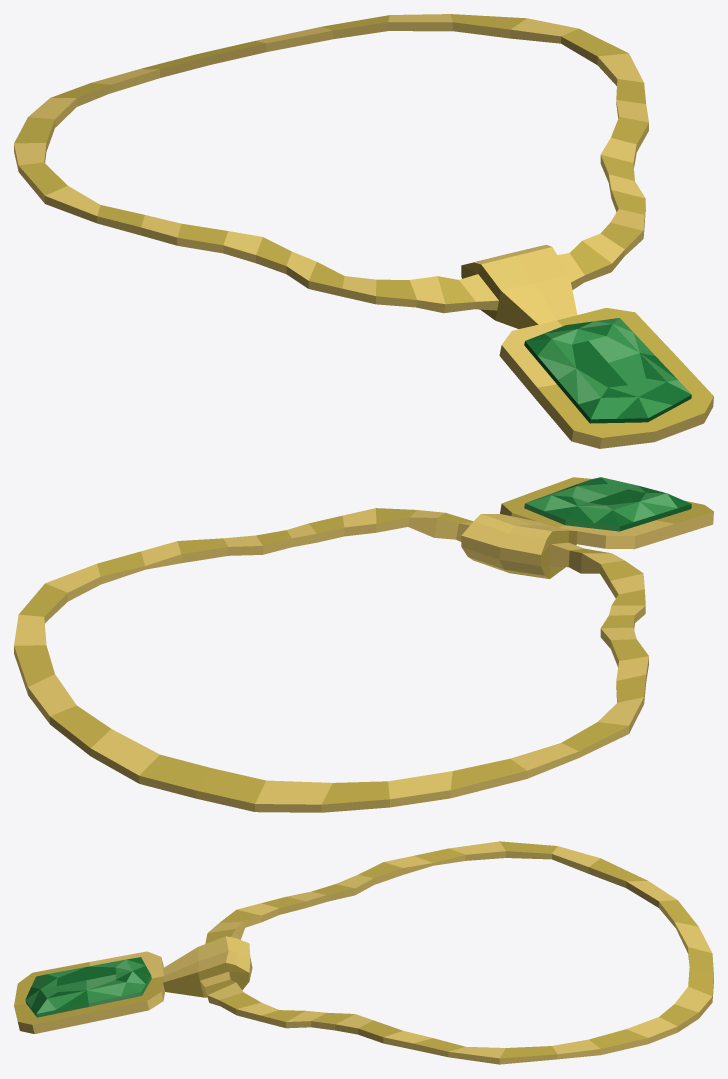
File: necklace.glb
3 renders of one model, top to bottom at view 1: azimuth 30°, elevation 25°; view 2: azimuth 150°, elevation 25°; view 3: azimuth 270°, elevation 25°, orthographic. The views are drawn at different scales.
Parts seen in each view (by area): view 1: Plane; view 2: Plane; view 3: Plane.
Part boxes in pixels (bbox=[...]): Plane: bbox=[14, 14, 713, 448]; Plane: bbox=[14, 477, 713, 812]; Plane: bbox=[14, 841, 713, 1064].
Size of the model in its own units: 11.06 by 1.56 by 15.08.
